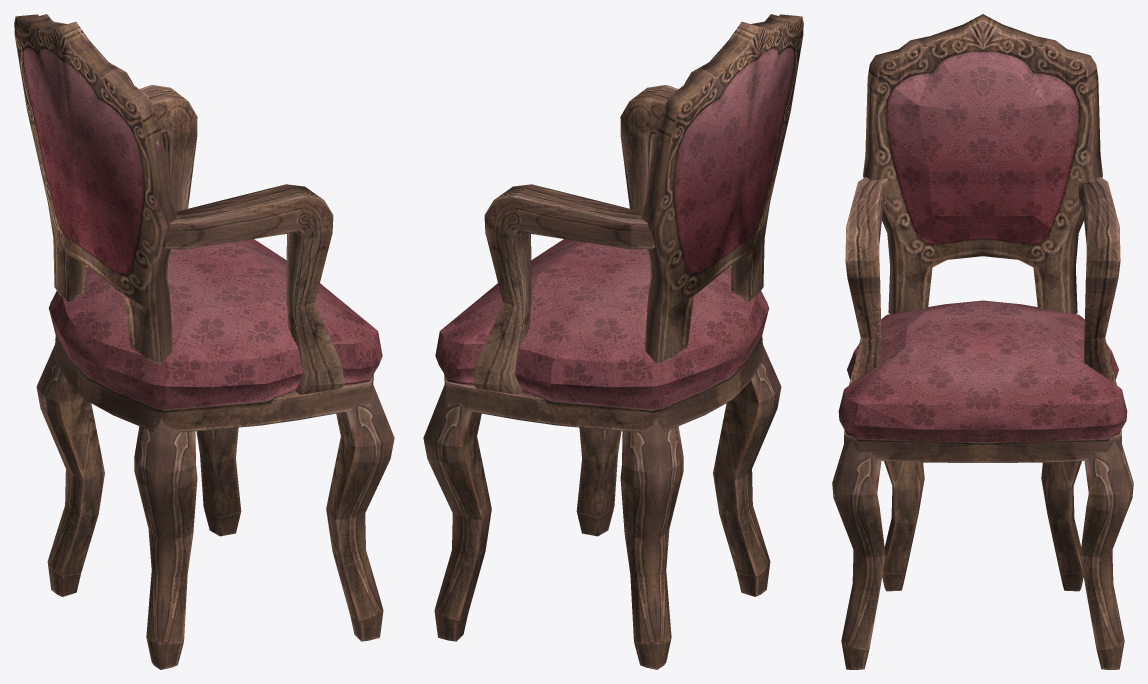
File: bg_lut_lucastle_decoprop01a_sm_cwk.FBX
3 views of the same model, side by side, from view 1: azimuth 30°, elevation 25°; view 2: azimuth 150°, elevation 25°; view 3: azimuth 270°, elevation 25° (orthographic). The views are drawn at different scales.
Visible parts, largest first — view 1: bg_lut_lucastle_decoprop01a_sm_cwk; view 2: bg_lut_lucastle_decoprop01a_sm_cwk; view 3: bg_lut_lucastle_decoprop01a_sm_cwk.
Part boxes in pixels (x1,y1,x2,y2): bg_lut_lucastle_decoprop01a_sm_cwk: (14,14,394,669); bg_lut_lucastle_decoprop01a_sm_cwk: (423,14,803,669); bg_lut_lucastle_decoprop01a_sm_cwk: (832,14,1133,669).
Size of the model in its own units: 60.55 by 135 by 67.25.
